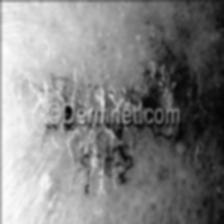Potentially Malignant Skin Tumors: (35, 126, 143, 188), (33, 76, 171, 103)
